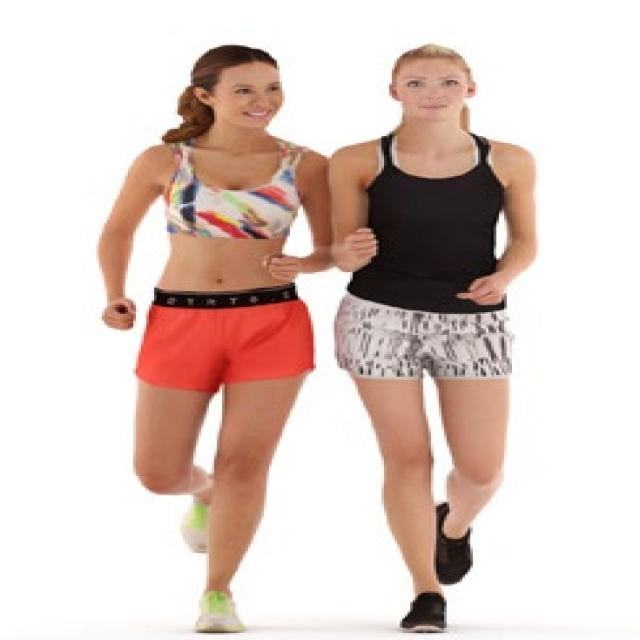running: (95, 41, 330, 634), (331, 42, 542, 632)
